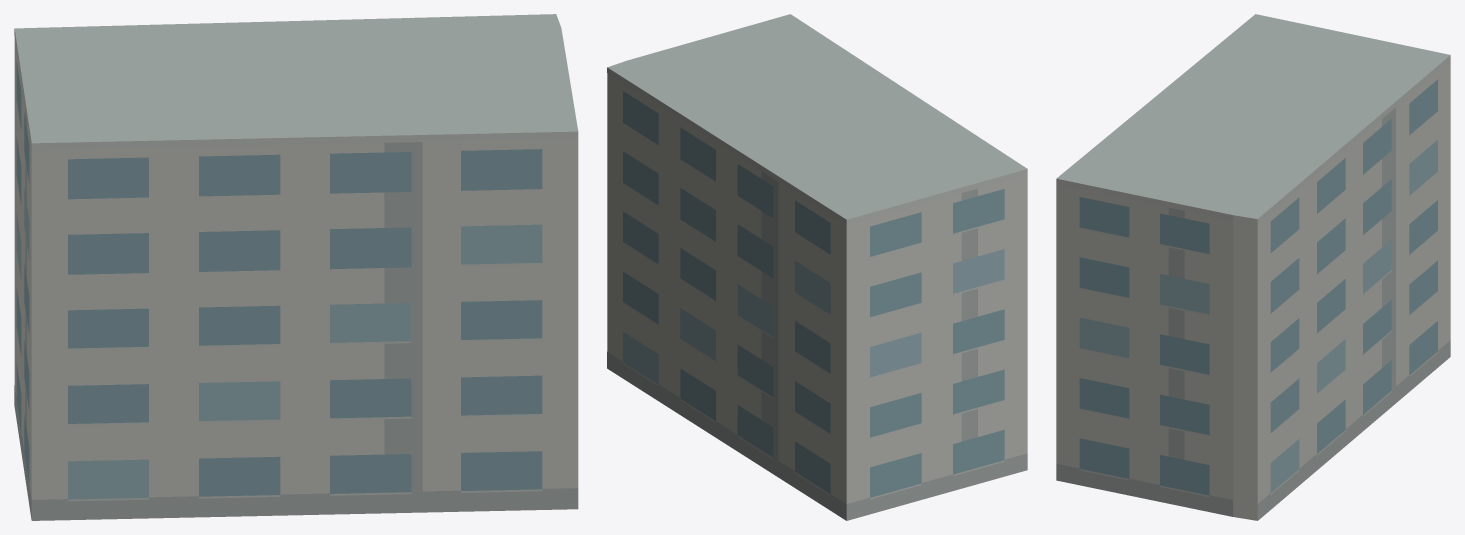
File: survey-upis-32891804.glb
3 renders of one model, left to right at view 1: azimuth 30°, elevation 25°; view 2: azimuth 150°, elevation 25°; view 3: azimuth 270°, elevation 25°, orthographic. The views are drawn at different scales.
Visible parts, largest first — view 1: survey-upis-32891804.tmp; view 2: survey-upis-32891804.tmp; view 3: survey-upis-32891804.tmp.
Part boxes in pixels (<box>): survey-upis-32891804.tmp: <box>14,14,578,520</box>; survey-upis-32891804.tmp: <box>607,14,1027,520</box>; survey-upis-32891804.tmp: <box>1056,14,1450,520</box>.
Bounding box in the file's own units: 18.95 × 13 × 15.4.
